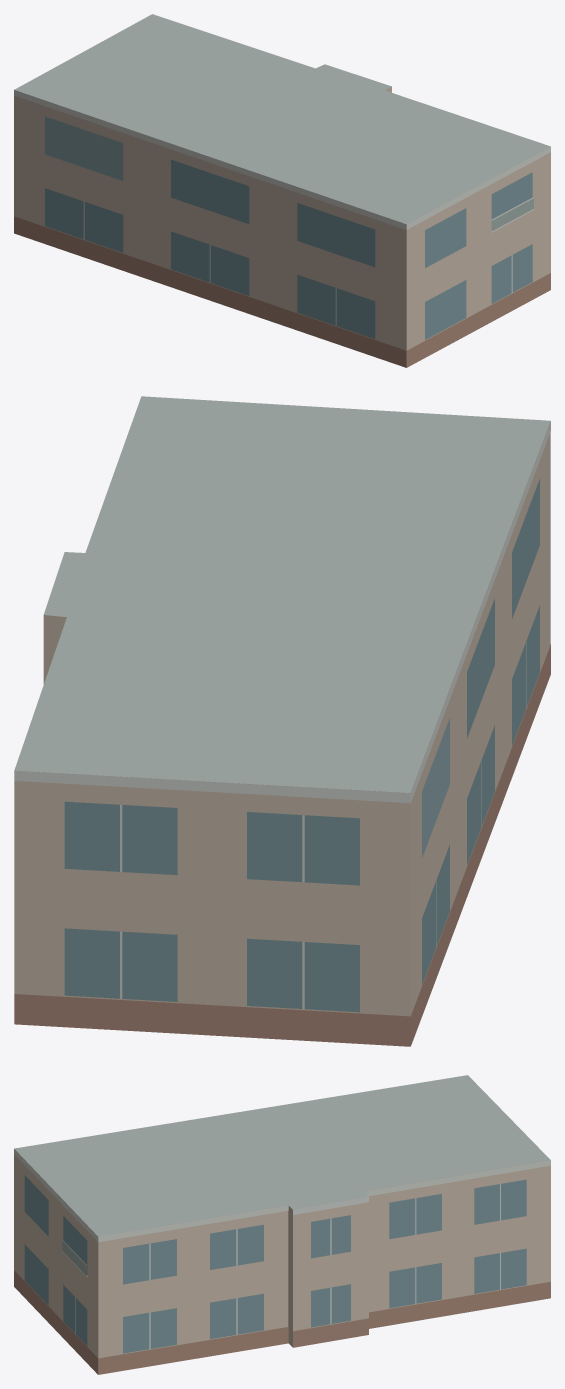
Rendered from survey-upis-32839366.glb.
The picture shows the model from 3 angles, top to bottom: view 1: azimuth 30°, elevation 25°; view 2: azimuth 150°, elevation 25°; view 3: azimuth 270°, elevation 25°; orthographic projection. The views are drawn at different scales.
Parts seen in each view (by area): view 1: survey-upis-32839366.tmp; view 2: survey-upis-32839366.tmp; view 3: survey-upis-32839366.tmp.
Part boxes in pixels (left/top/right/bottom): survey-upis-32839366.tmp: left=14, top=14, right=550, bottom=367; survey-upis-32839366.tmp: left=14, top=396, right=550, bottom=1046; survey-upis-32839366.tmp: left=14, top=1075, right=550, bottom=1374.
Size of the model in its own units: 15.33 by 6.1 by 21.49.
